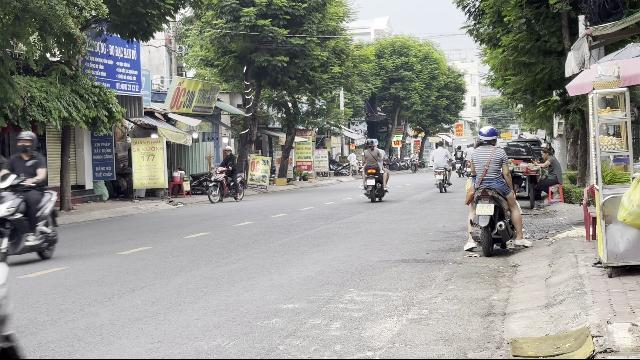helmet: (14, 130, 36, 154), (476, 126, 498, 146)
licenseplate: (476, 204, 494, 214)
motorcyclist: (1, 130, 64, 266), (461, 124, 525, 256)
